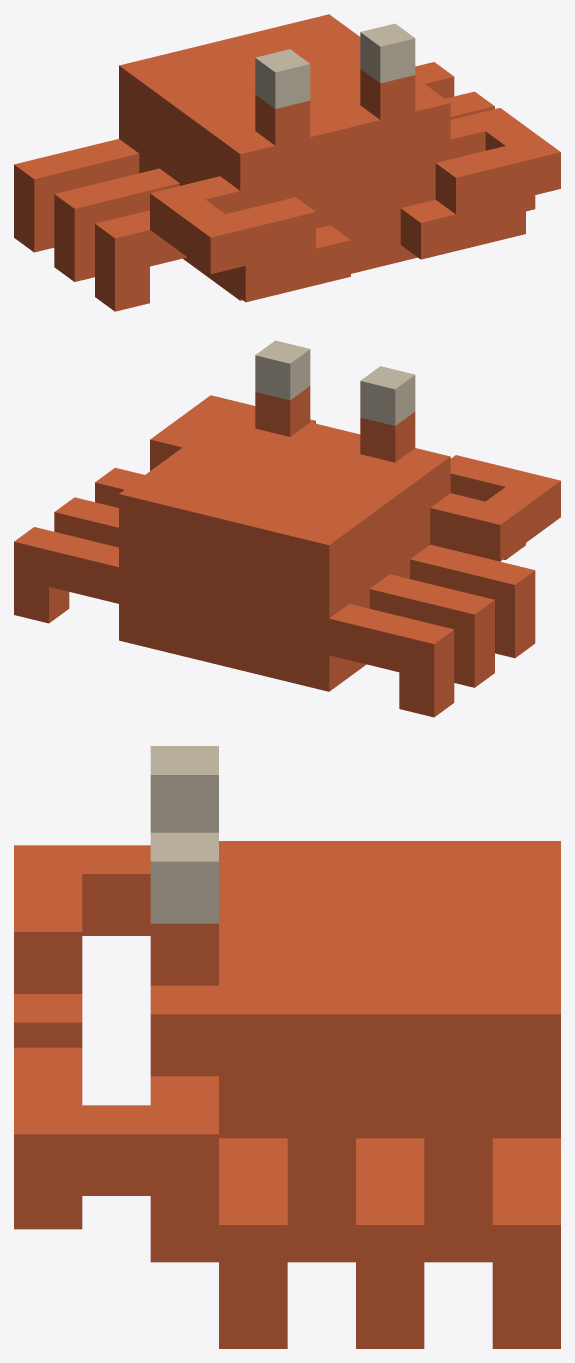
File: Background_C_deco_06.FBX
The picture shows the model from 3 angles, top to bottom: view 1: azimuth 30°, elevation 25°; view 2: azimuth 150°, elevation 25°; view 3: azimuth 270°, elevation 25°; orthographic projection. The views are drawn at different scales.
Visible parts, largest first — view 1: Background_C-9; view 2: Background_C-9; view 3: Background_C-9.
Part boxes in pixels (x1,y1,x2,y2): Background_C-9: (14,14,560,311); Background_C-9: (14,340,560,717); Background_C-9: (14,746,560,1348).
Bounding box in the file's own units: 1.2 × 0.6 × 0.8.
1 material, 1 textured.
